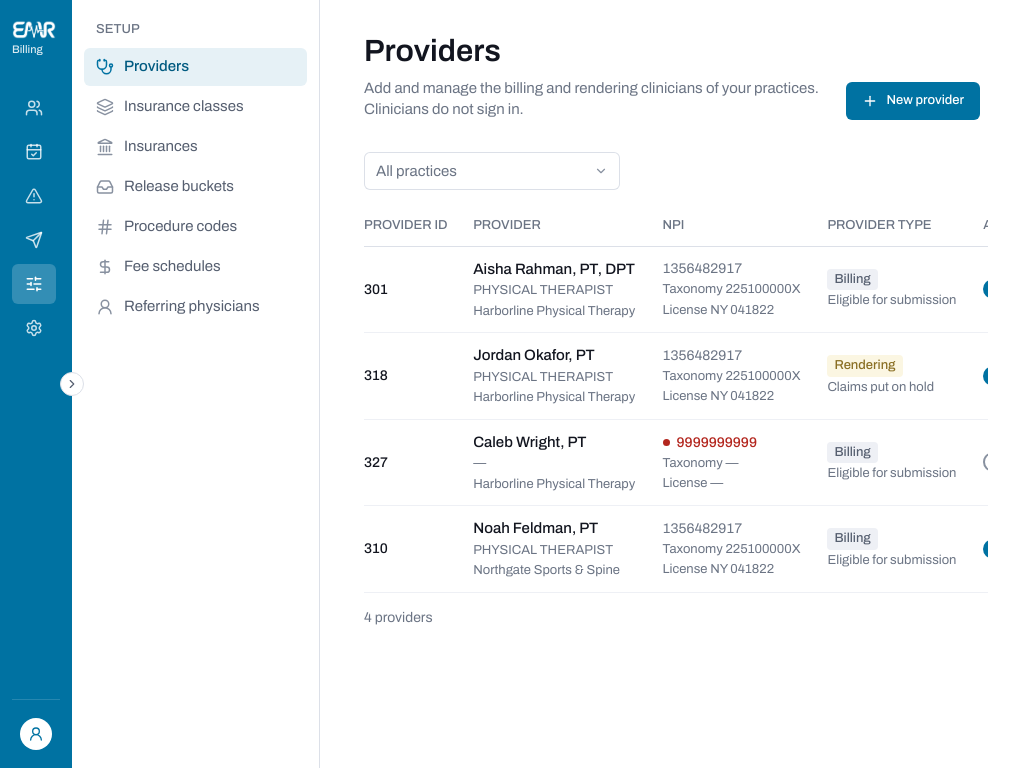
Test: Setup → Providers › opens the prototype’s form — without claim hold or payer enrollment — and refuses it empty
Step 1. Click the button "New provider" → x=913, y=101, box [846,82,980,120]
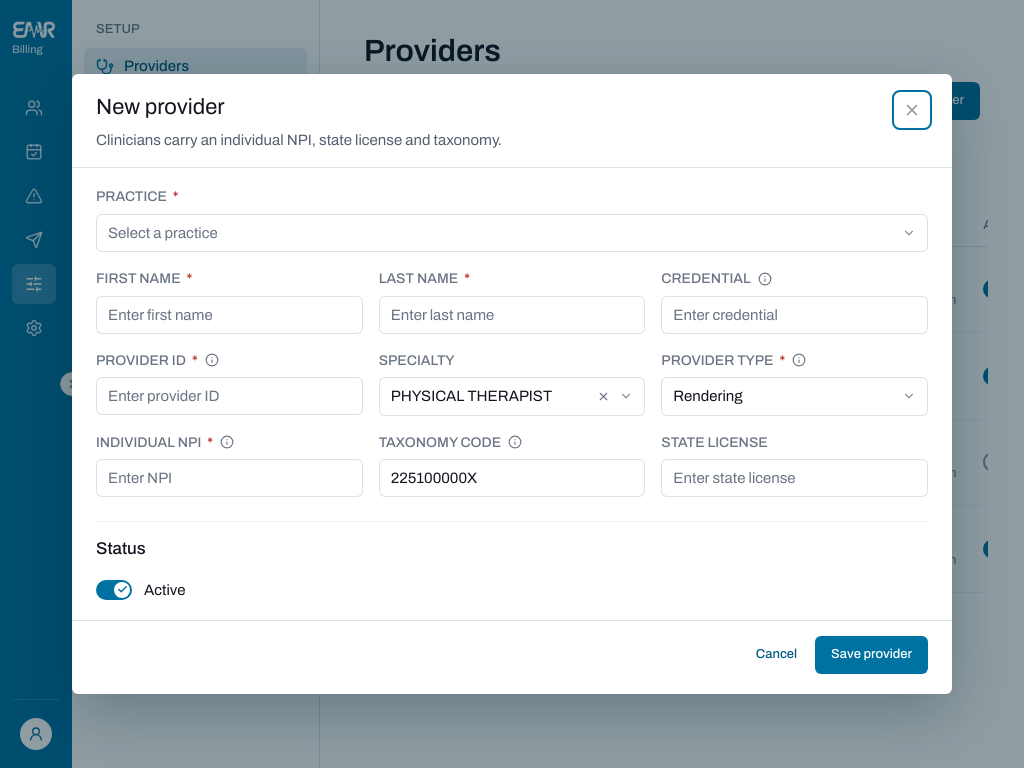
Expected: the field labelled "First name *" is shown, [108,296,351,334]
Expected: the field labelled "Last name *" is shown, [391,296,633,334]
Expected: the field labelled "Credential" is shown, [673,296,916,334]
Step 2. Click the dropdown named "provider type" → x=795, y=396, box [661,377,928,416]
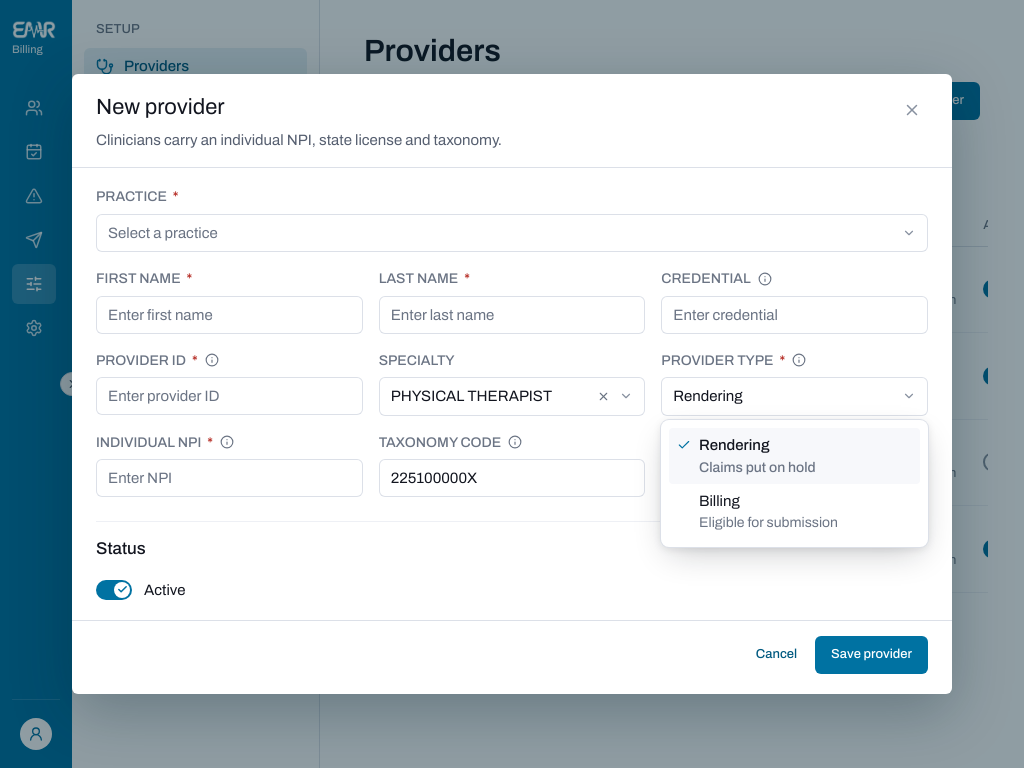
Expected: the options read "RenderingClaims put on hold", "BillingEligible for submission", in this order, [669,428,920,484]; [699,492,838,530]
Step 3. Press Escape
Step 4. Click the button "Save provider" → x=872, y=655, box [815,636,928,674]
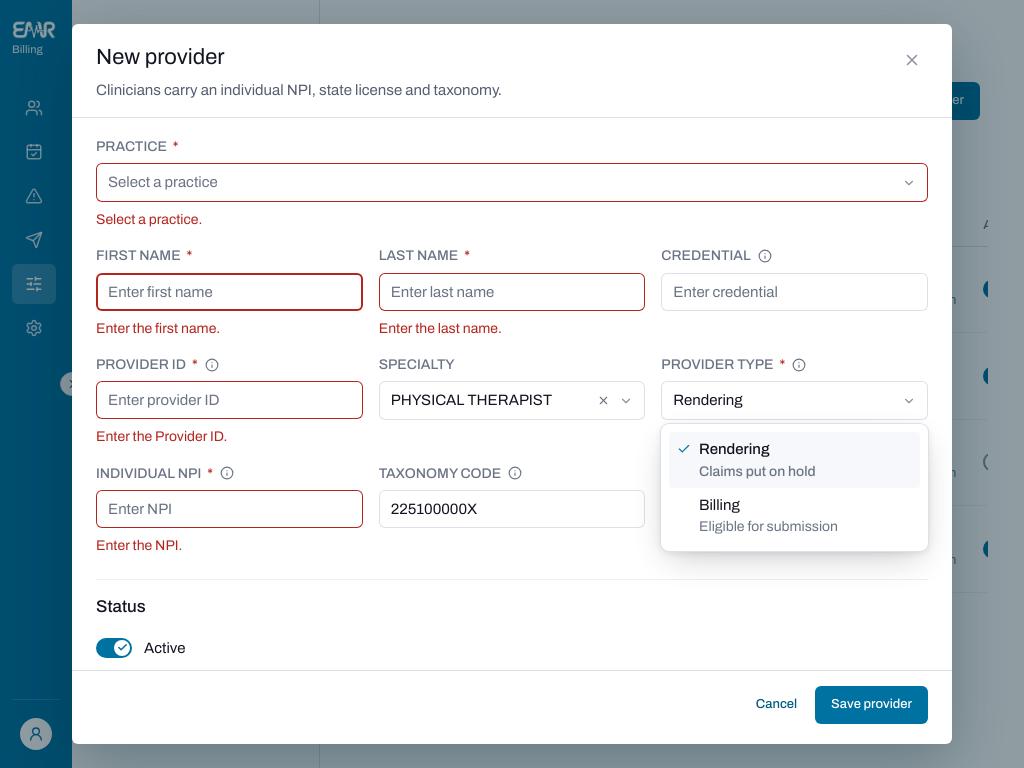
Expected: the text "Select a practice." is shown, [96,212,202,227]
Expected: the text "Enter the first name." is shown, [96,321,220,336]
Expected: the text "Enter the last name." is shown, [379,321,502,336]
